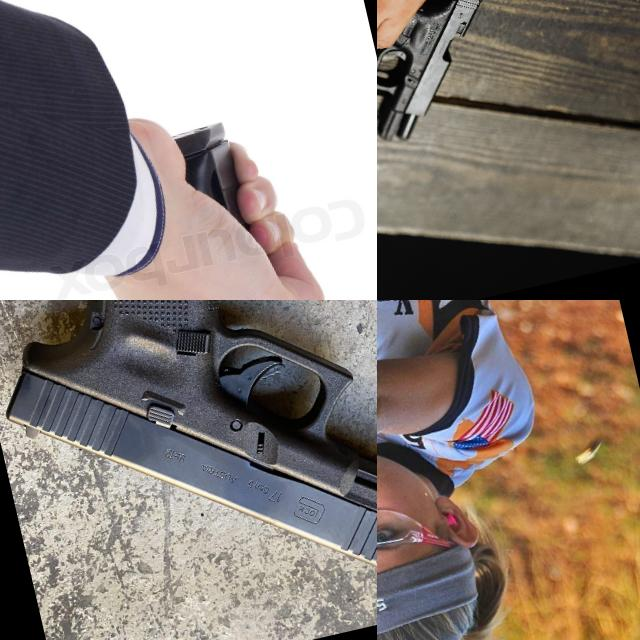handgun: (0, 300, 377, 640), (120, 97, 373, 300), (377, 0, 533, 151), (377, 377, 476, 593)
